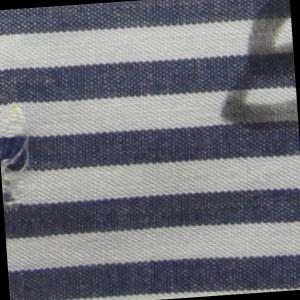Damage: (1, 99, 40, 217)
Stain: (208, 1, 300, 141)
